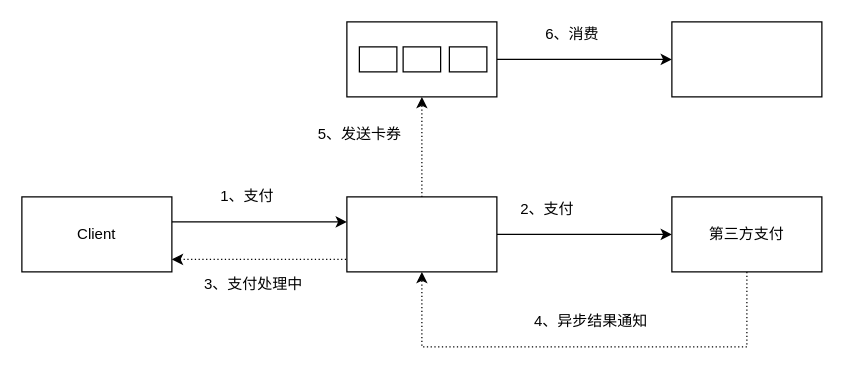
The diagram is 844 pixels wide and 379 high, and some of its shapes have lost their labels. The box of each missing label's shape, as (x1, y1, x2, y2) in pixels:
支付服务: (346, 196, 497, 272)
账户服务: (671, 21, 822, 97)
